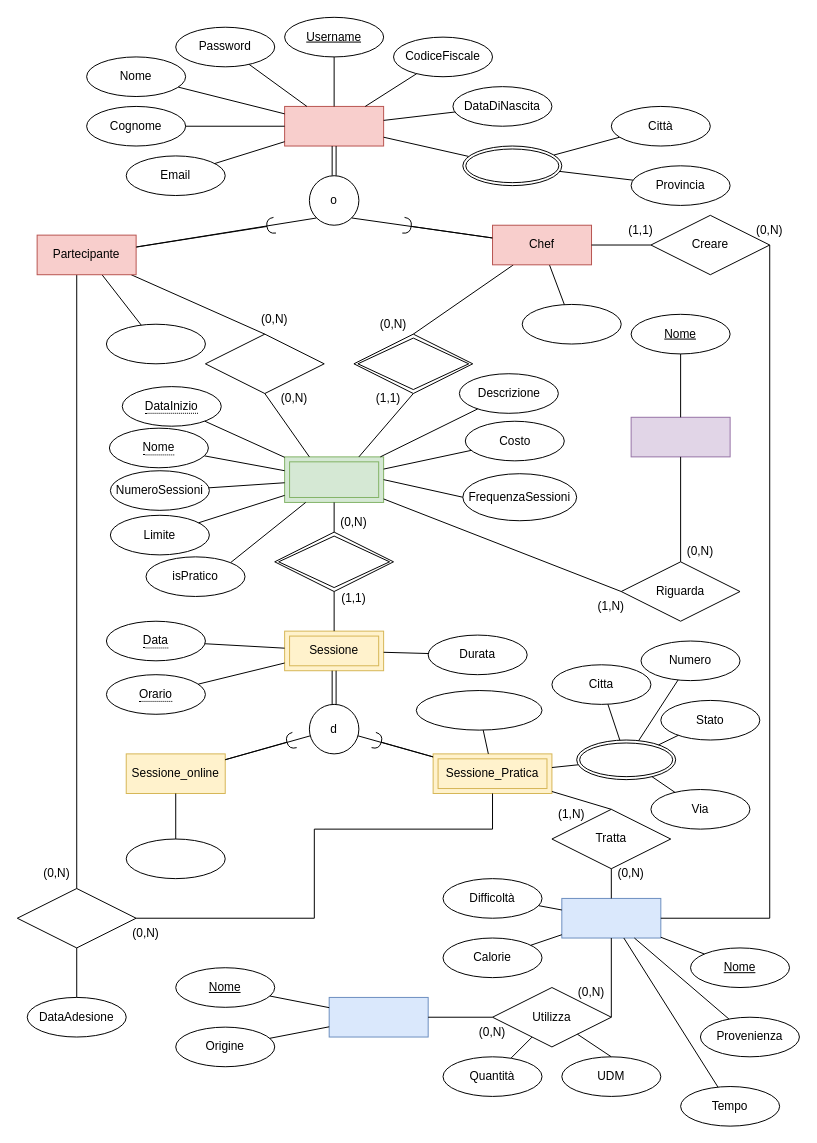
This 817x1143 diagram has some shape labels left out. The shapes that lost their labels are listed below. From the top down, each one's centre as x and y in pixels, then its label:
At (334,125): "Utente".
At (512,165): "LuogoDiNascita".
At (155,343): "NumeroCorsi".
At (571,323): "Curriculum".
At (264,363): "Si_Iscrive".
At (413,363): "Aggiunge".
At (680,436): "Argomento".
At (334,479): "Corso".
At (334,561): "Si_Compone".
At (478,710): "NumeroPartecipanti".
At (626,759): "Indirizzo".
At (175,858): "Link_Riunione".
At (76,918): "Adesione".
At (611,917): "Ricetta".
At (378,1016): "Ingrediente".
